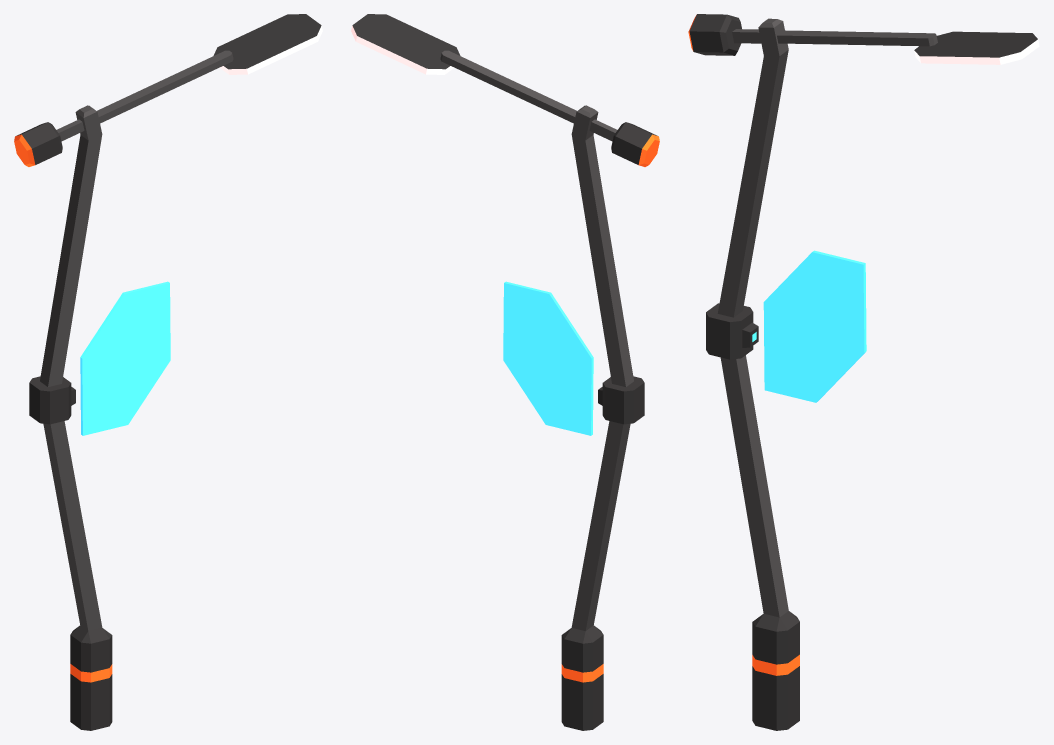
File: scifi_scifi-lamp-road-hologram.fbx
3 views of the same model, side by side, from view 1: azimuth 30°, elevation 25°; view 2: azimuth 150°, elevation 25°; view 3: azimuth 330°, elevation 25° (orthographic). The views are drawn at different scales.
Parts seen in each view (by area): view 1: scifi_scifi_lamp_road_hologram; view 2: scifi_scifi_lamp_road_hologram; view 3: scifi_scifi_lamp_road_hologram.
Boxes of the visible parts, left/top/right/bottom form: scifi_scifi_lamp_road_hologram: left=14, top=14, right=322, bottom=730; scifi_scifi_lamp_road_hologram: left=351, top=14, right=659, bottom=730; scifi_scifi_lamp_road_hologram: left=688, top=14, right=1039, bottom=730.
Bounding box in the file's own units: 95.57 × 200 × 16.47.
